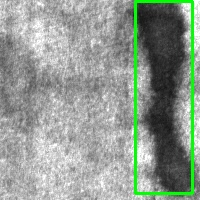patches: (135, 1, 192, 193)
